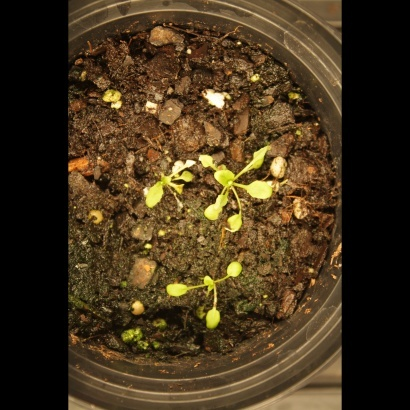leaf: (160, 275, 193, 305), (243, 142, 275, 172), (202, 192, 231, 224), (201, 304, 230, 336), (243, 177, 276, 203), (136, 181, 162, 213), (218, 258, 247, 285), (211, 166, 239, 190), (181, 162, 204, 185), (164, 181, 187, 204), (198, 149, 221, 172), (225, 212, 248, 235), (197, 272, 220, 295)
